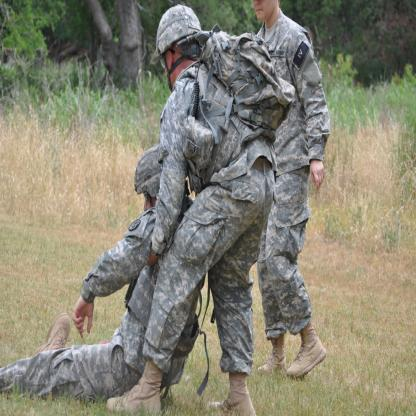Helmet: (157, 6, 205, 77), (136, 143, 162, 209)
